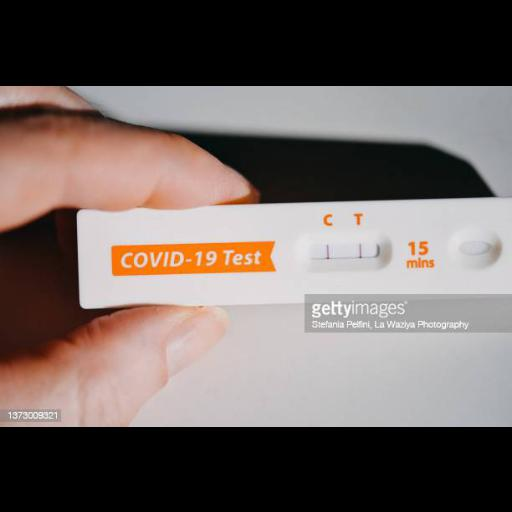Pos: (77, 198, 509, 307)
